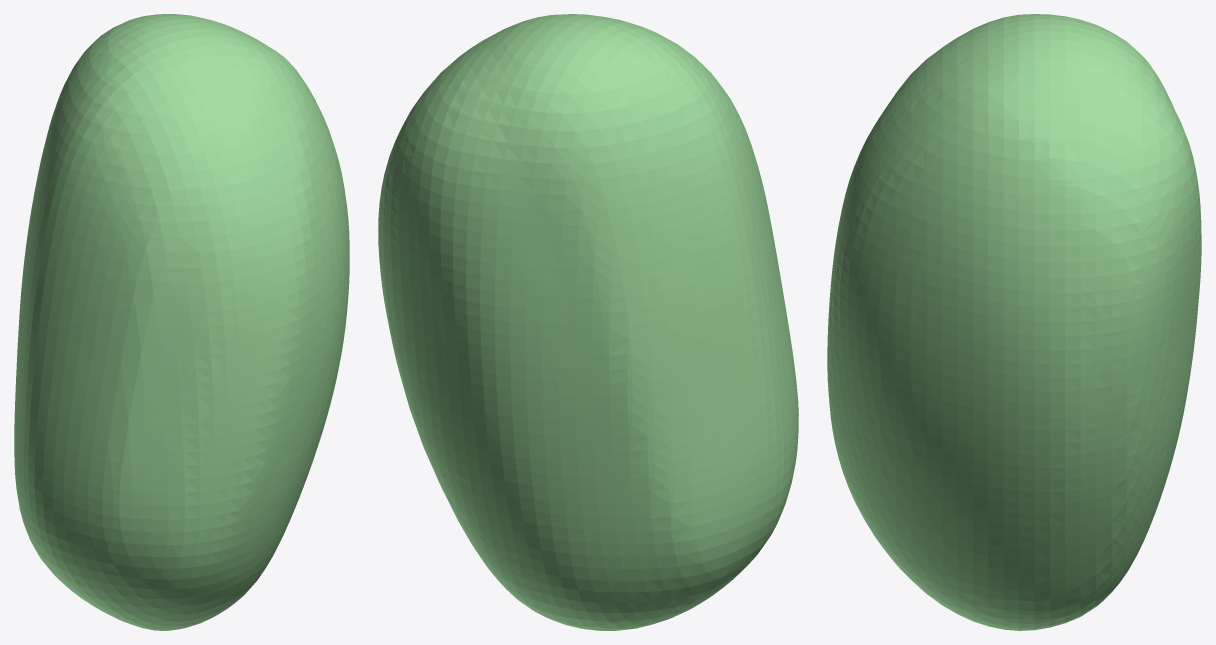
The model's file is hand_part_8.glb.
3 renders of one model, left to right at view 1: azimuth 30°, elevation 25°; view 2: azimuth 150°, elevation 25°; view 3: azimuth 270°, elevation 25°, orthographic. The views are drawn at different scales.
Size of the model in its own units: 0.015 by 0.025 by 0.0141.
